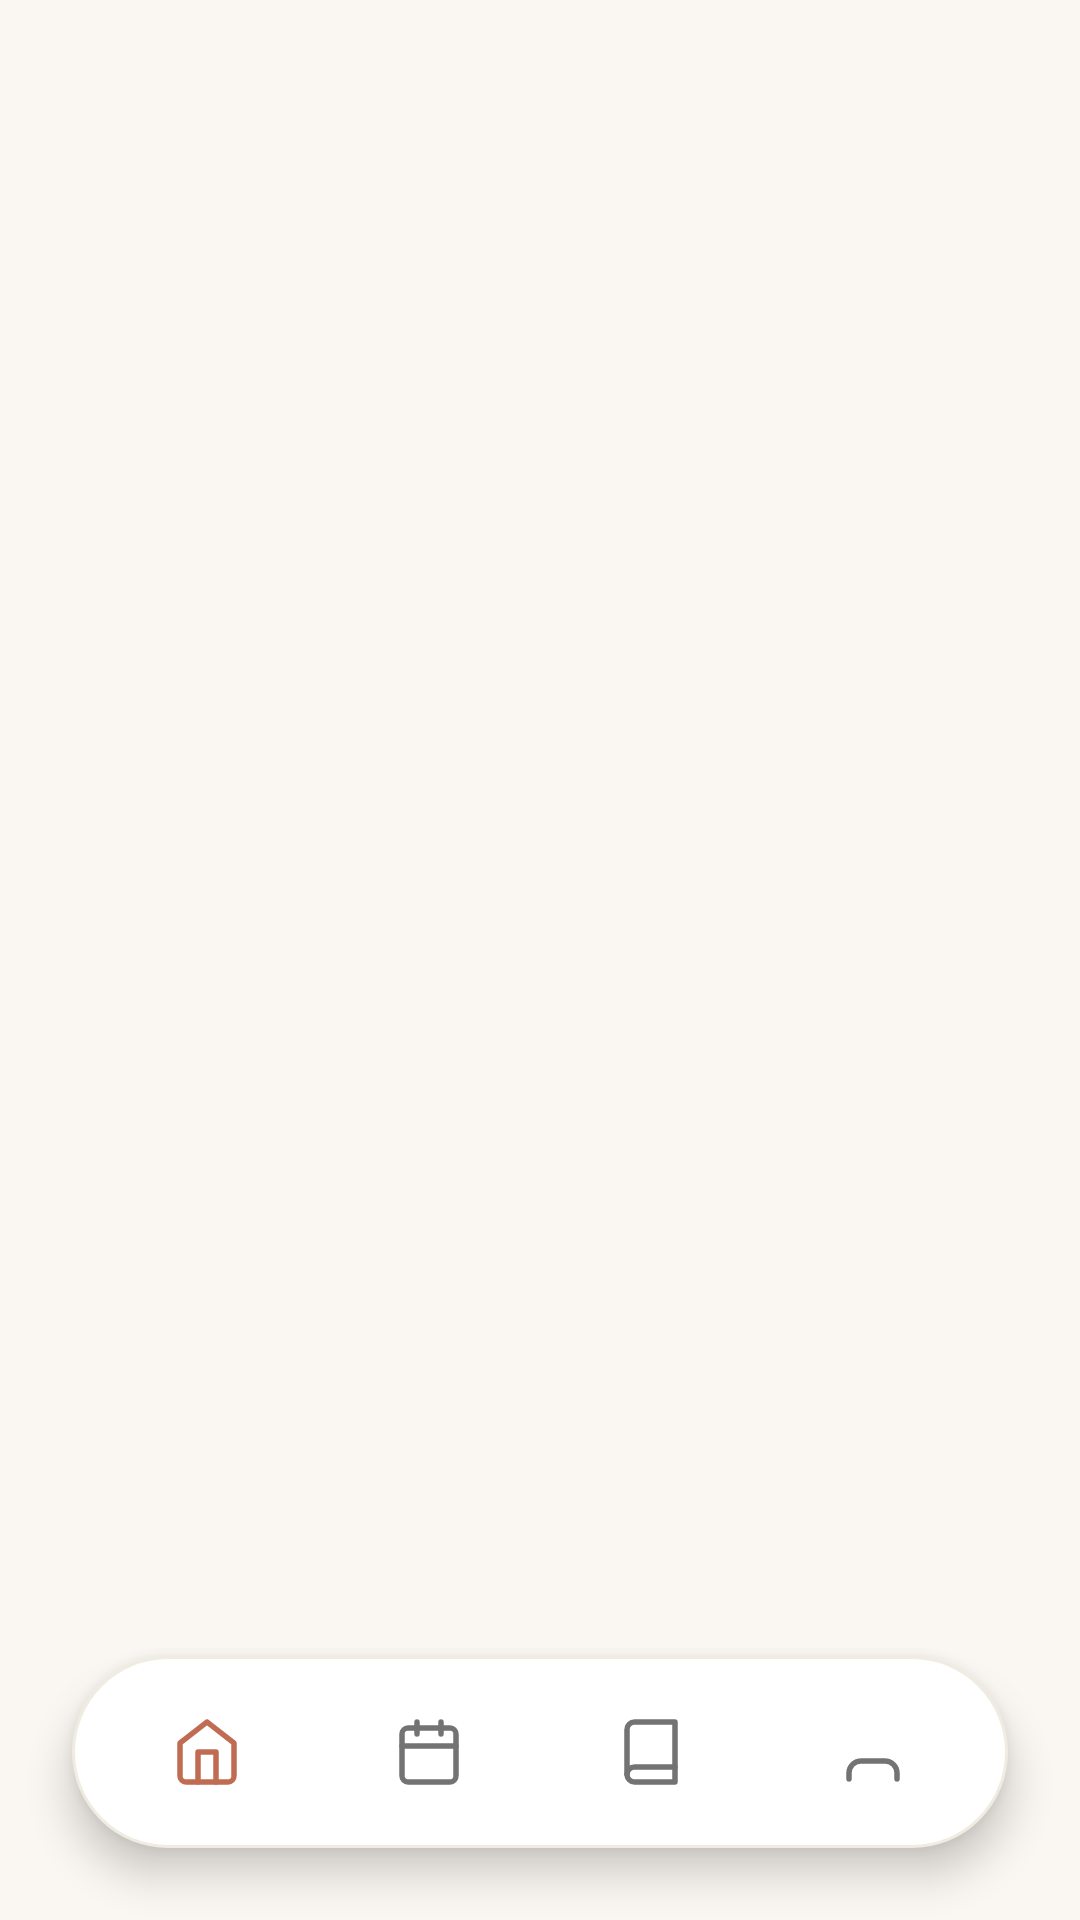

Screen size 1080×1920. Icon name, then its center in pixels as (x=x, y=y):
History: (x=429, y=1752)
Home: (x=207, y=1752)
